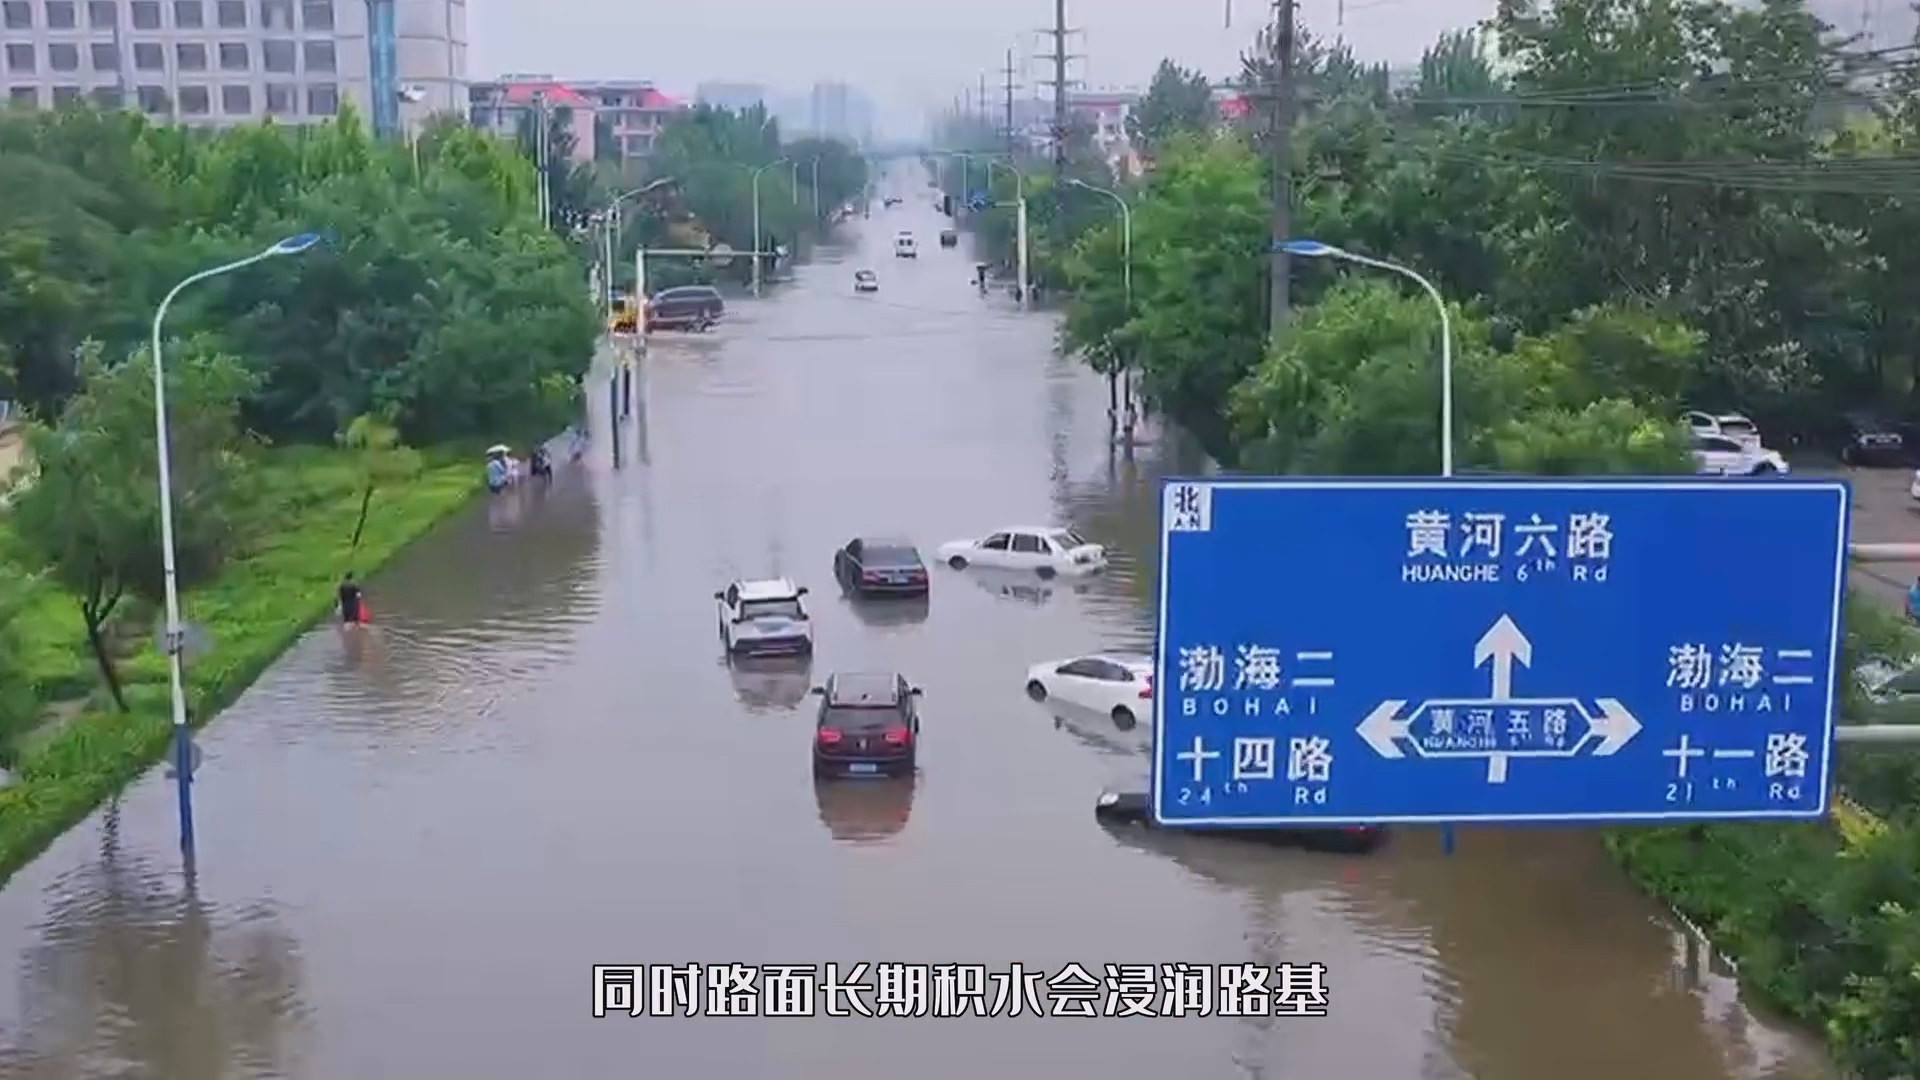puddle: (88, 796, 1644, 1080), (272, 404, 1164, 816)
